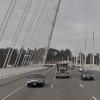Car: (20, 70, 53, 97)
